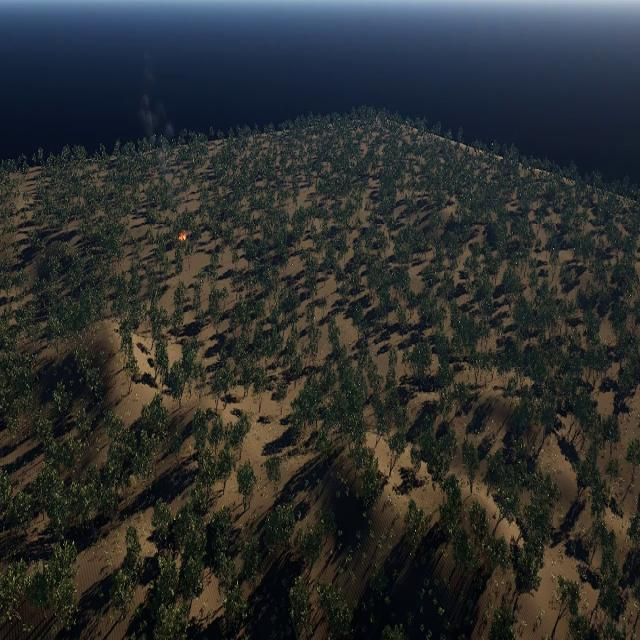fire: (179, 232, 187, 243)
smoke: (135, 46, 177, 184)
